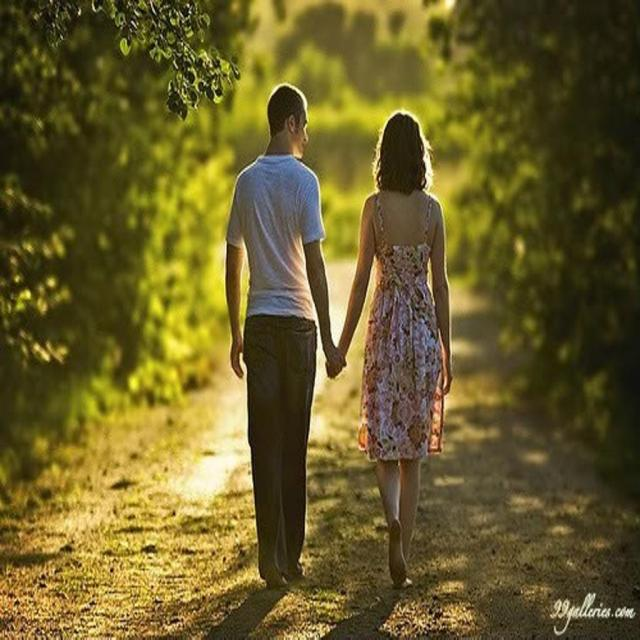nomask: (295, 100, 307, 158)
